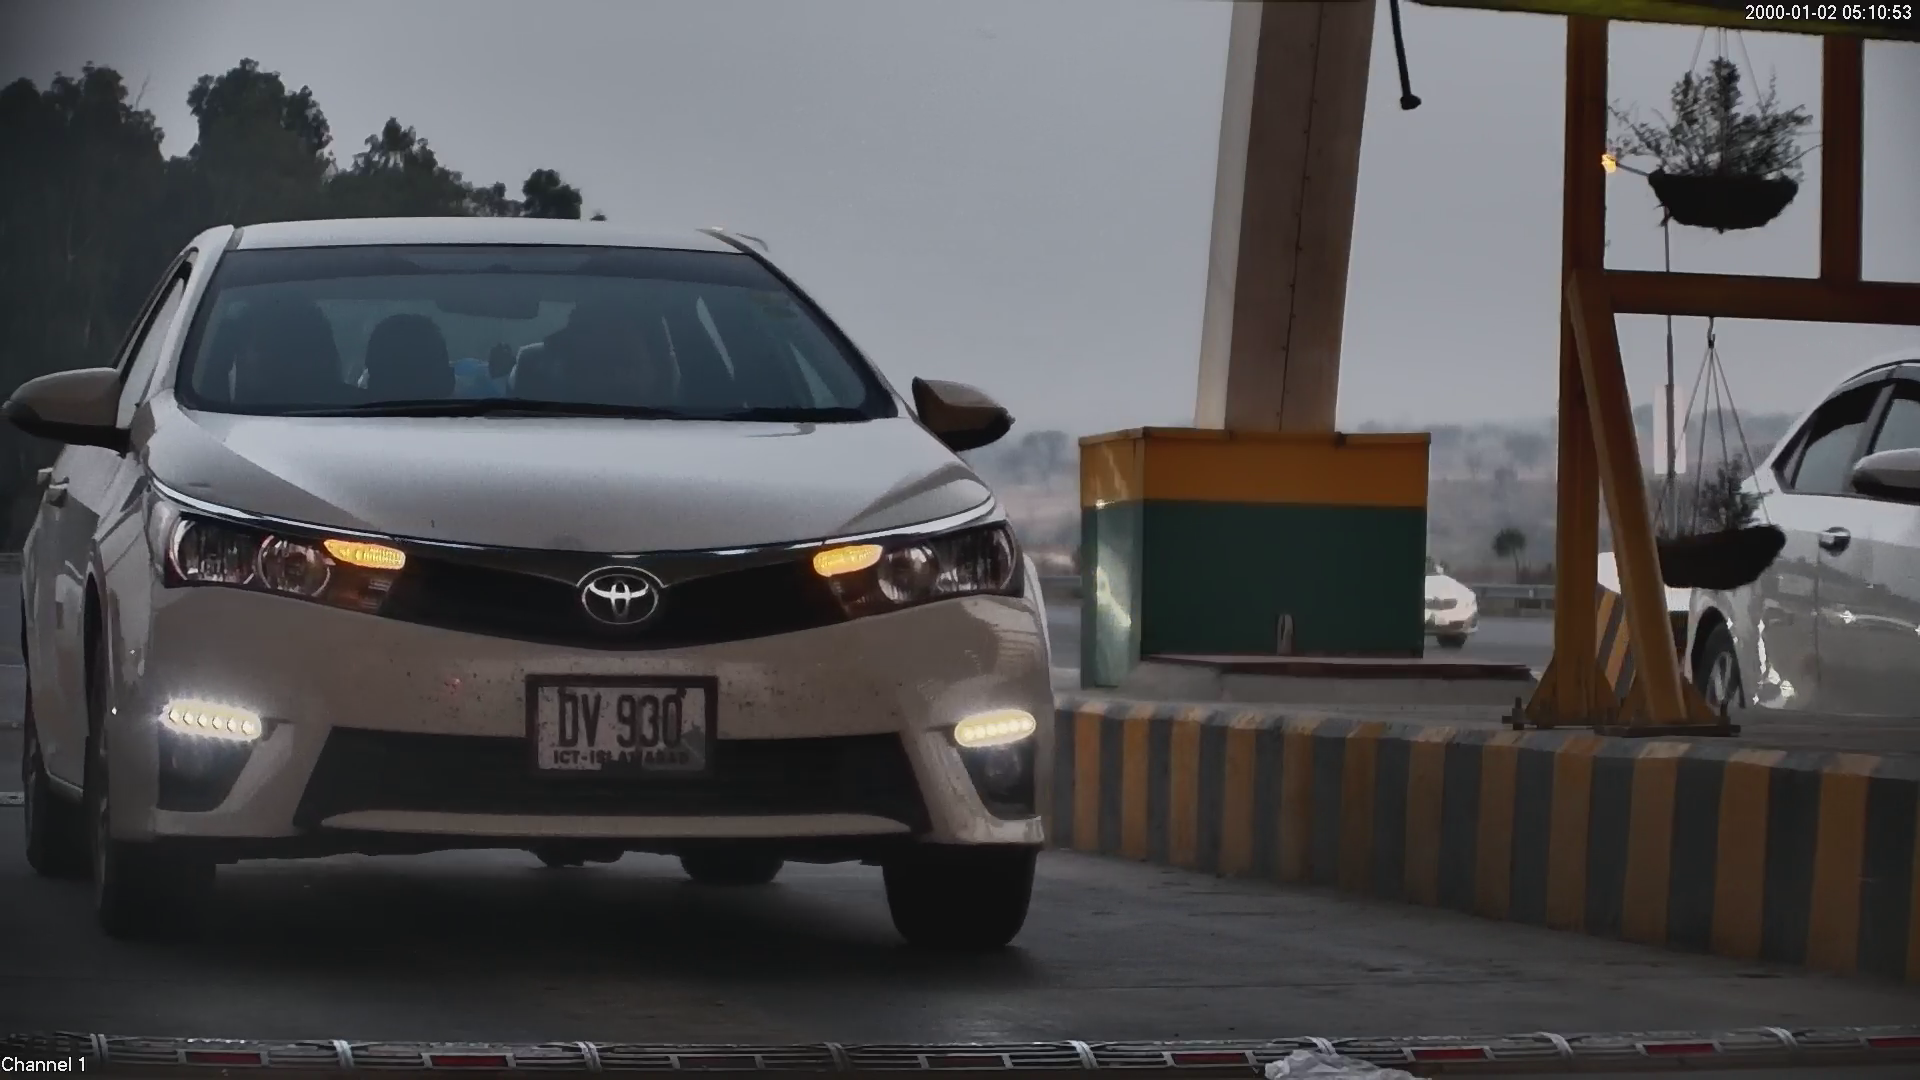Number_Plate: (517, 662, 726, 800)
